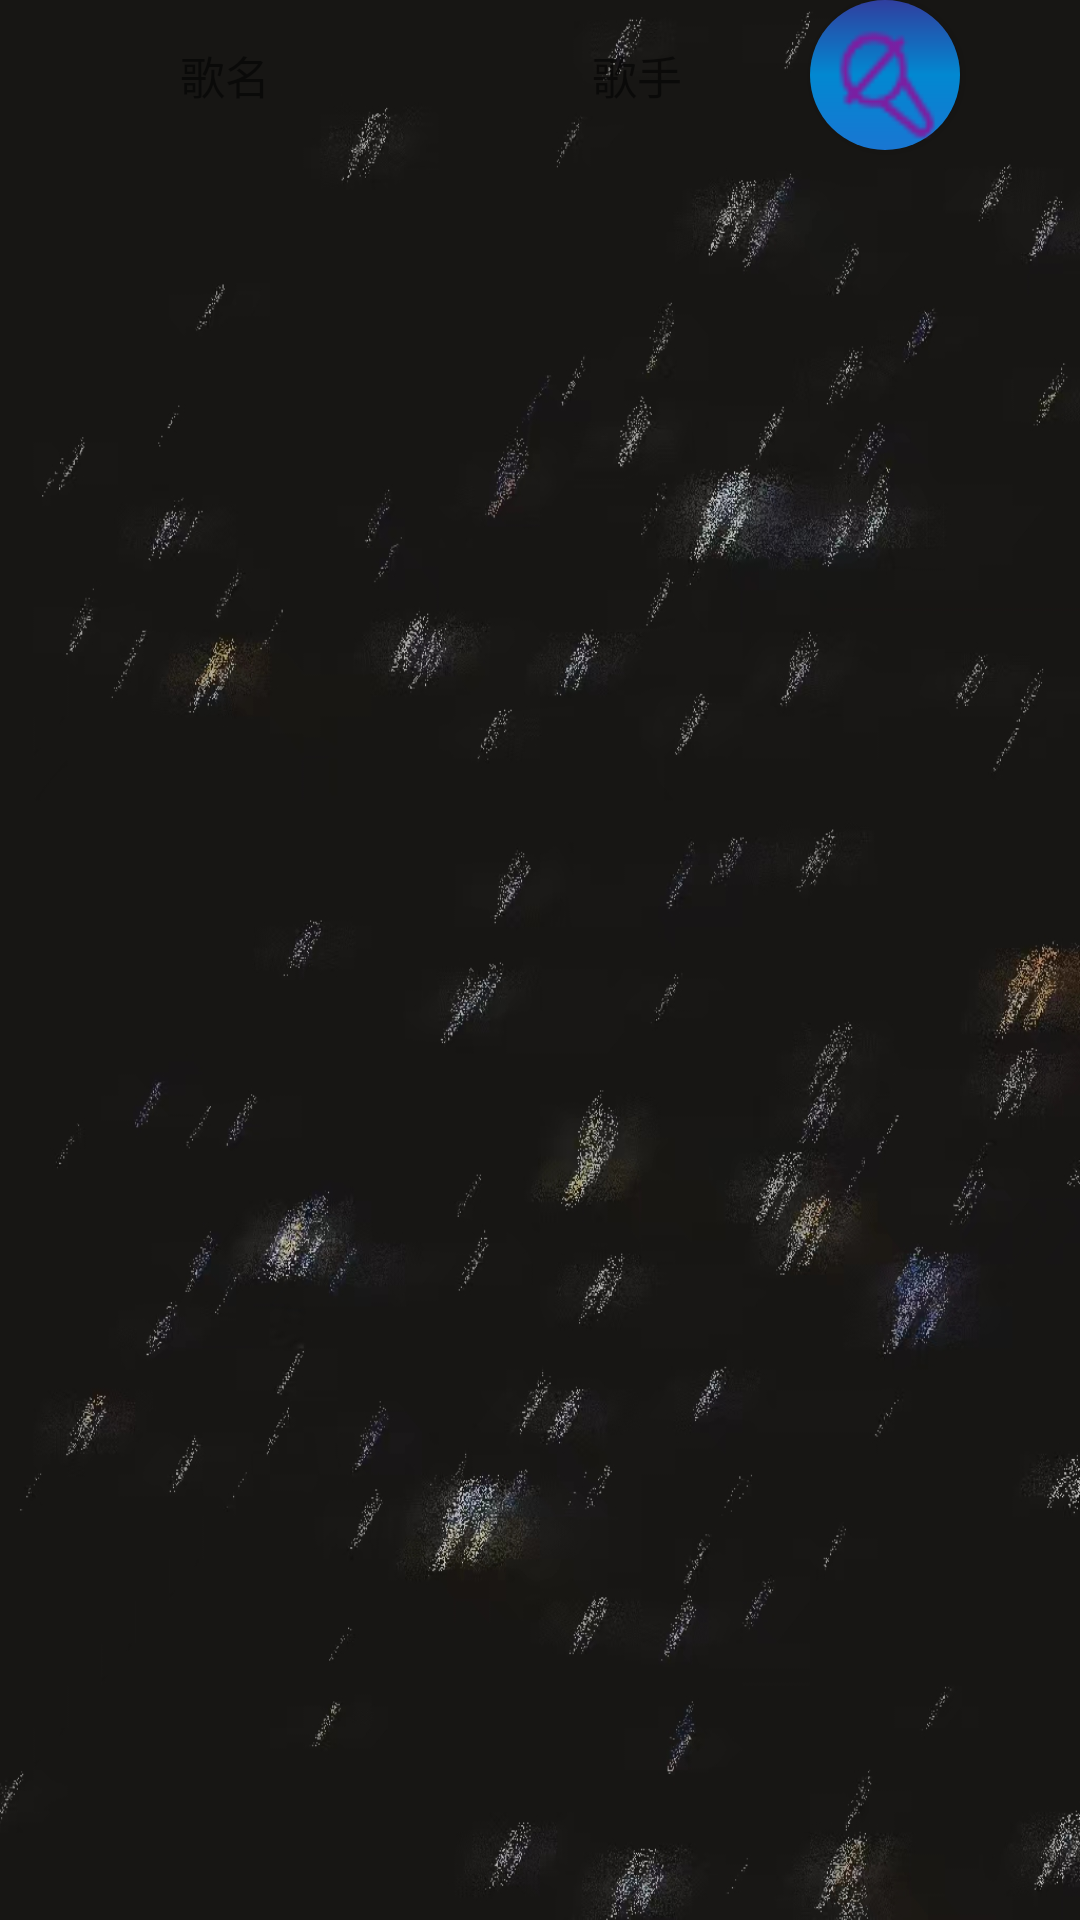

Icons on this 1080px×1920px Android screen, each with its box as detection(x1, y1, x2, y2):
huatong: detection(810, 0, 960, 150)
